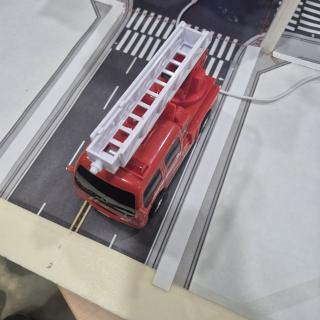Fire_truck: (67, 23, 219, 229)
